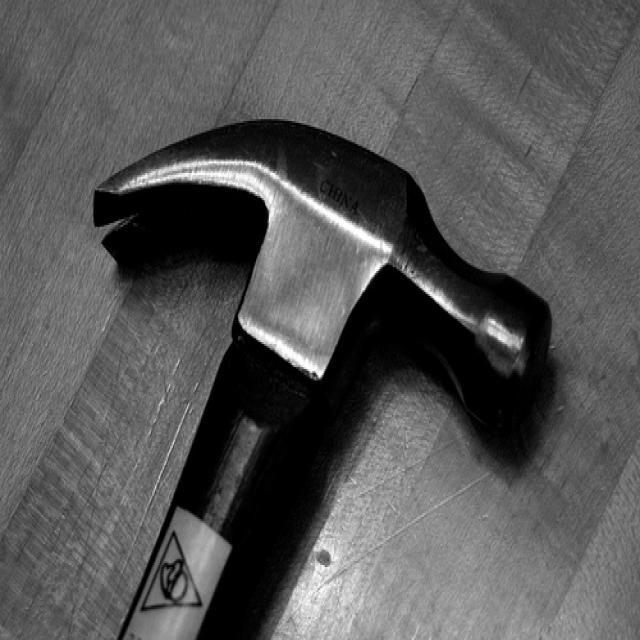hammer: (86, 105, 563, 640)
